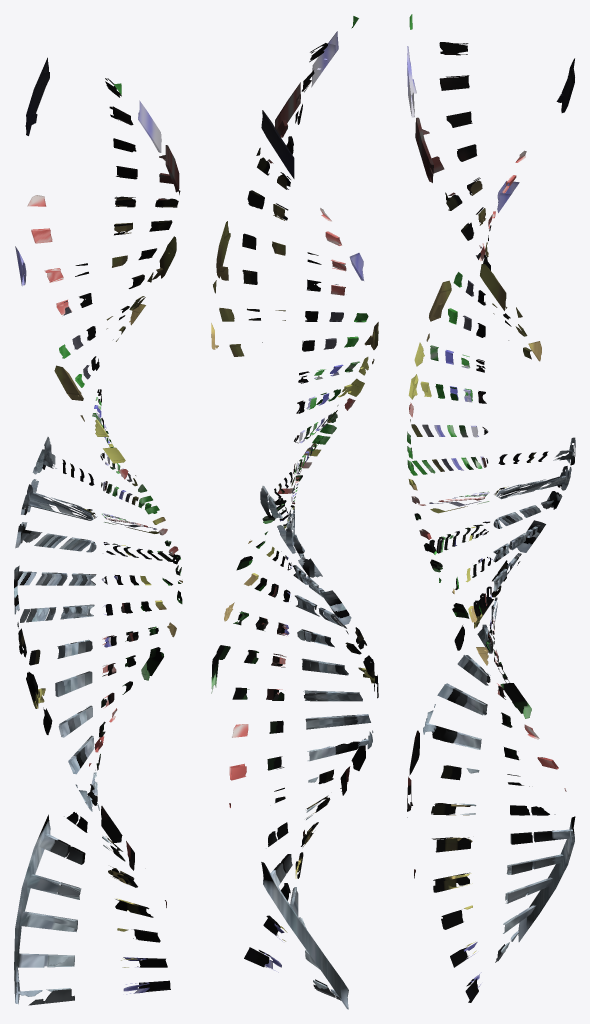
File: a3dddna8.DAE
3 views of the same model, side by side, from view 1: azimuth 30°, elevation 25°; view 2: azimuth 150°, elevation 25°; view 3: azimuth 270°, elevation 25° (orthographic).
Visible parts, largest first — view 1: Box04; view 2: Box04; view 3: Box04.
Boxes of the visible parts, x1,y1,x2,y2 form: Box04: [14, 57, 182, 1005]; Box04: [211, 16, 378, 1009]; Box04: [407, 14, 575, 1002].
Size of the model in its own units: 5.08 by 5.08 by 31.5.
1 material, 1 textured.
